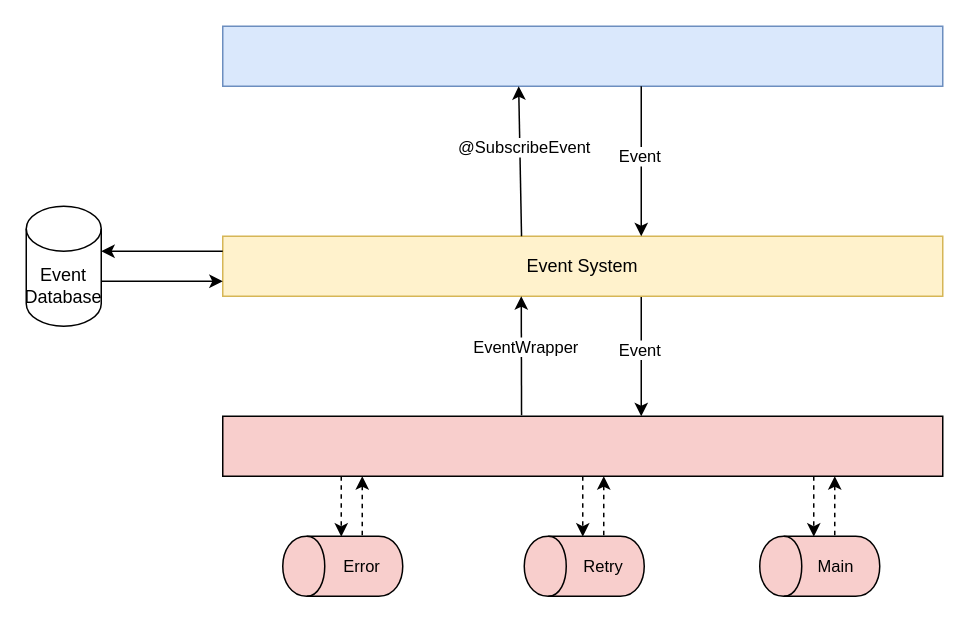
Image size: 969x623. Some labels were removed from this diagram. The centre of each missing label's shape, as x and y in pixels:
Application: pixel 582 55
RabbitMQ: pixel 582 445
